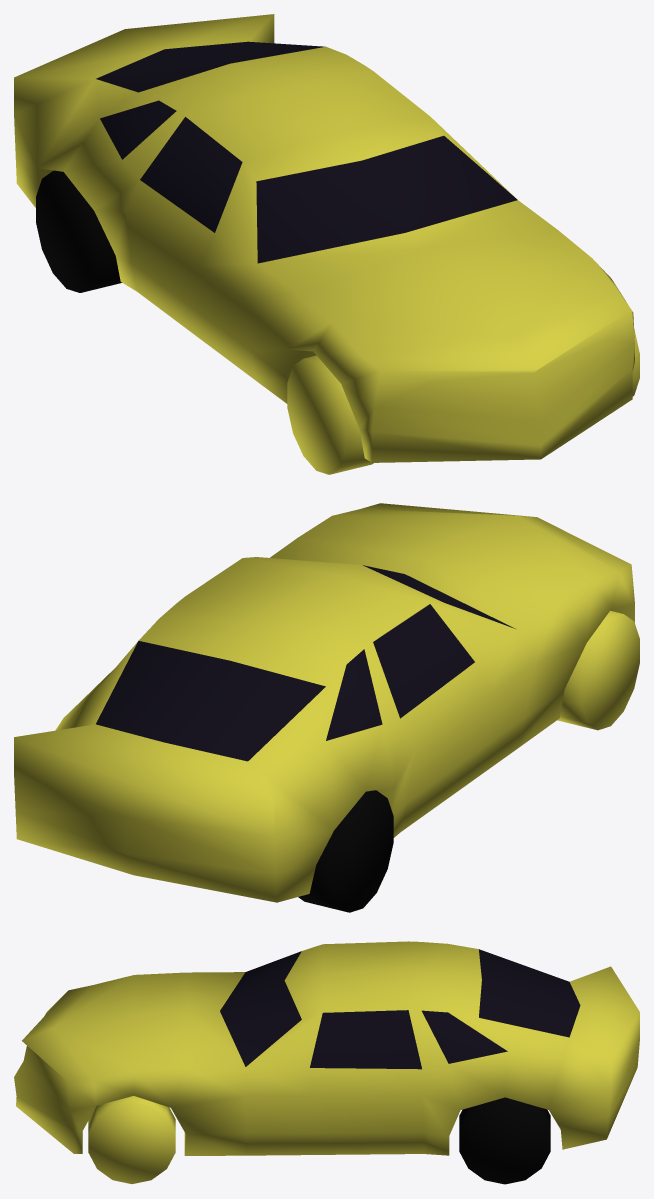
File: camaro.fbx
The picture shows the model from 3 angles, top to bottom: view 1: azimuth 30°, elevation 25°; view 2: azimuth 150°, elevation 25°; view 3: azimuth 270°, elevation 25°; orthographic projection. The views are drawn at different scales.
Parts seen in each view (by area): view 1: Plane; view 2: Plane; view 3: Plane.
Boxes of the visible parts, x1=… form: Plane: x1=14, y1=14, x2=639, y2=474; Plane: x1=14, y1=503, x2=639, y2=912; Plane: x1=14, y1=941, x2=639, y2=1184.
Bounding box in the file's own units: 2.74 × 1.83 × 6.55.
